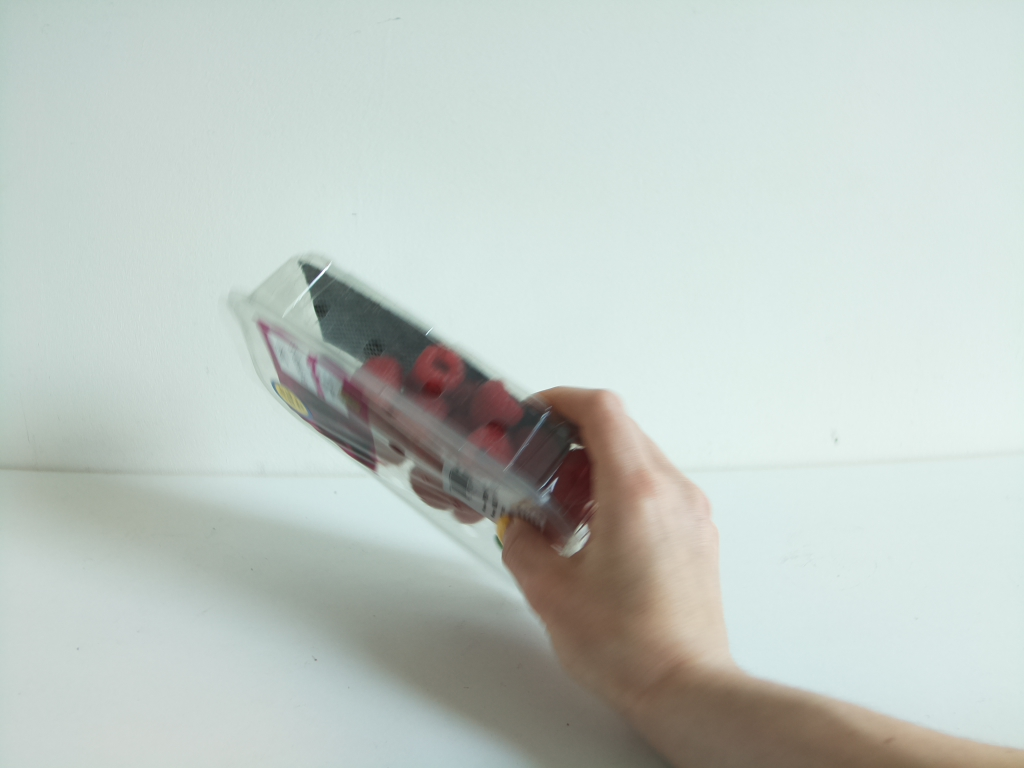soft-fruit: (245, 254, 603, 582)
